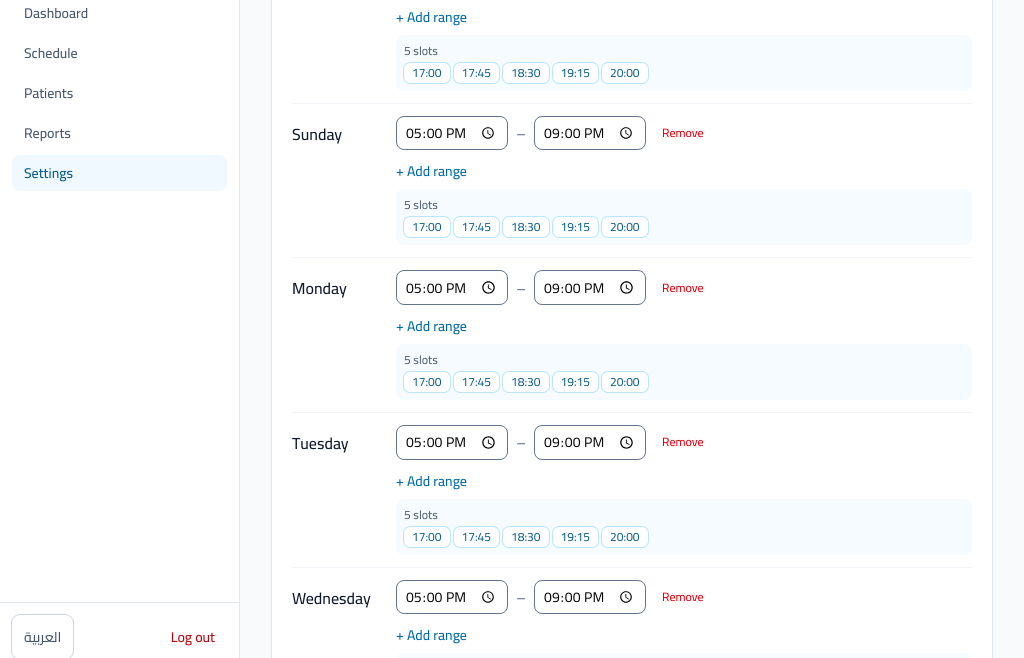
Test case: Settings: hours and duration › makes a day a day off by removing its only range
This screenshot has width=1024, height=658.
(page scrolled)
Step 1. Click the button with aria-label "Remove Monday range 1" → x=683, y=288, box [654,276,712,300]
(page scrolled)
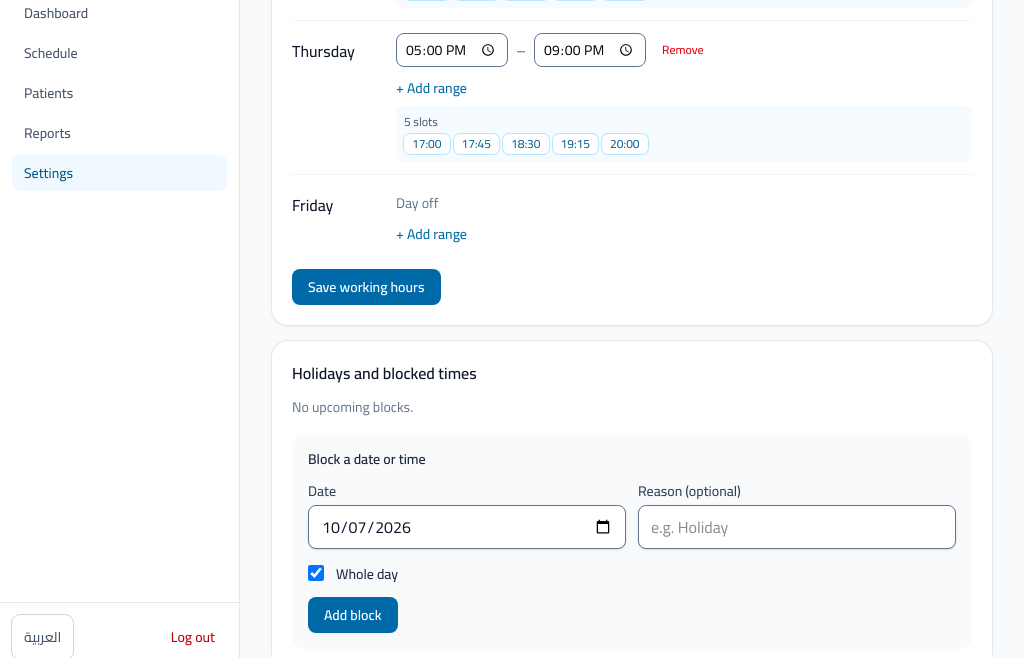
Step 2. Click the button "Save working hours" → x=366, y=287, box [292,269,440,305]
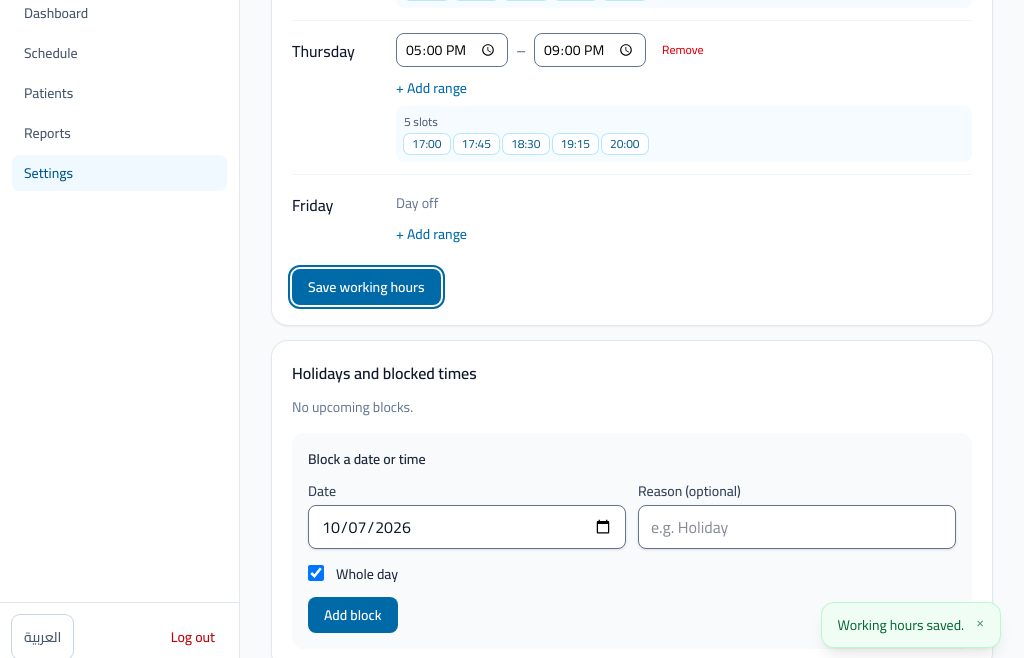
Expected: the text "Working hours saved." is shown, [838,615,964,635]
